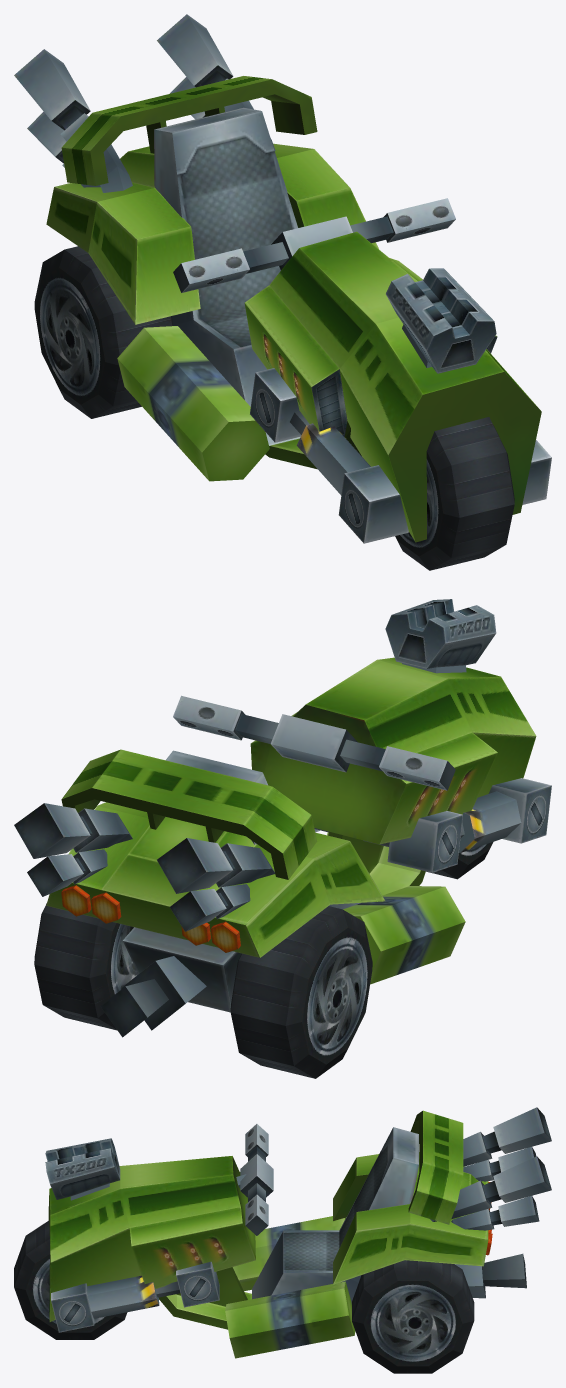
The model's file is Mike_AI.glb.
3 views of the same model, one above another, from view 1: azimuth 30°, elevation 25°; view 2: azimuth 150°, elevation 25°; view 3: azimuth 270°, elevation 25° (orthographic). The views are drawn at different scales.
Visible parts, largest first — view 1: kart_mike, right_wheel, front_wheel; view 2: kart_mike, right_wheel, left_wheel, front_wheel; view 3: kart_mike, left_wheel, front_wheel.
Boxes of the visible parts, x1,y1,x2,y2 form: kart_mike: (14,14,551,543); right_wheel: (34,246,173,418); front_wheel: (395,417,514,570); kart_mike: (14,599,551,1037); right_wheel: (230,906,372,1078); left_wheel: (34,903,138,1030); front_wheel: (426,842,493,879); kart_mike: (45,1107,551,1358); left_wheel: (352,1260,474,1373); front_wheel: (14,1220,127,1339).
Size of the model in its own units: 1.89 by 1.91 by 4.67.
1 material, 1 textured.
